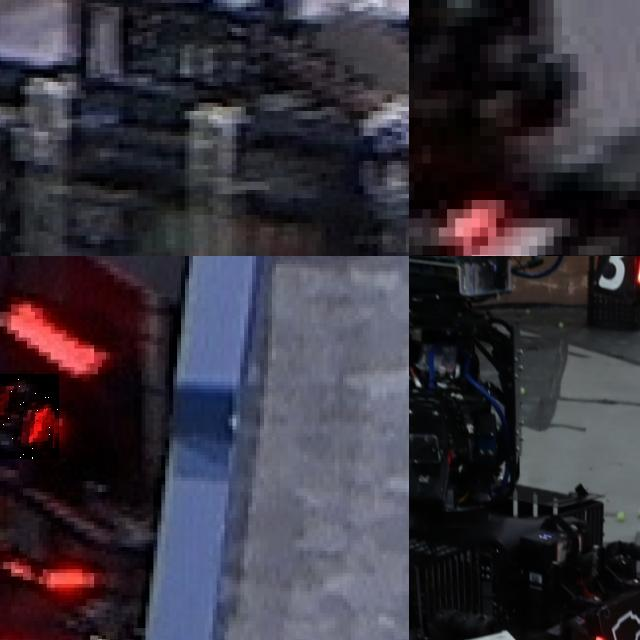R2: (0, 374, 58, 458)
R3: (593, 256, 640, 294)
Rs: (596, 607, 640, 640)
